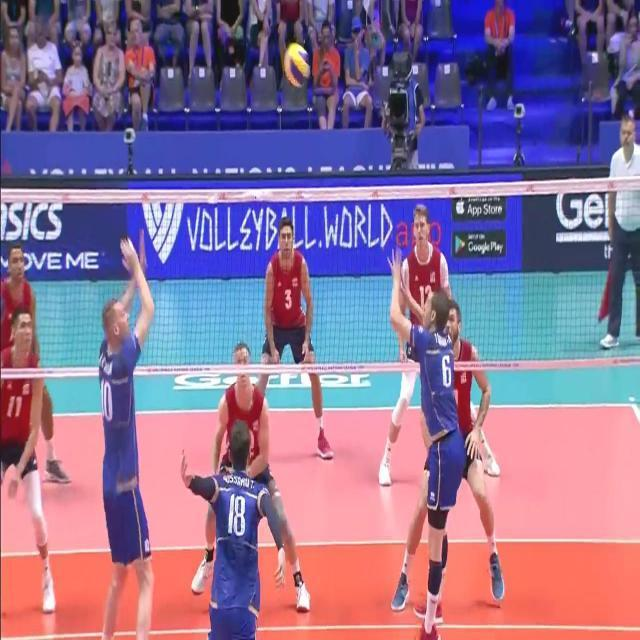volleyball: (284, 44, 311, 88)
